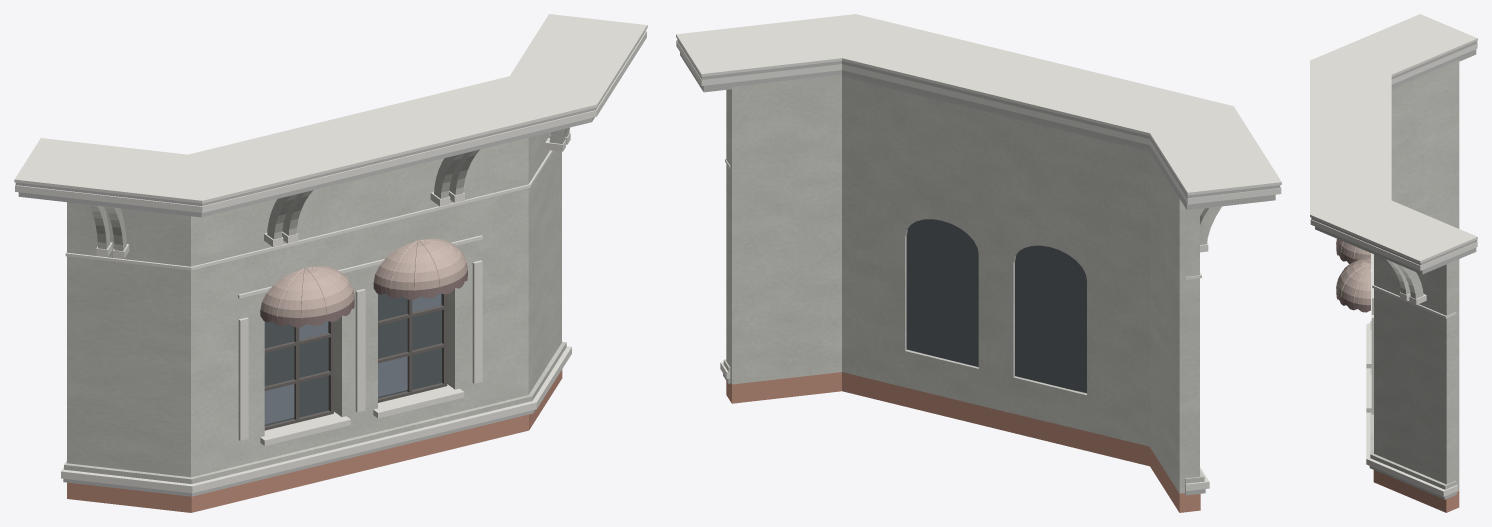
The model's file is navy-ymca-paired-eaves-far.glb.
3 views of the same model, side by side, from view 1: azimuth 30°, elevation 25°; view 2: azimuth 150°, elevation 25°; view 3: azimuth 270°, elevation 25° (orthographic). The views are drawn at different scales.
Parts seen in each view (by area): view 1: 海青大楼顶层双窗与成对弧形檐托; view 2: 海青大楼顶层双窗与成对弧形檐托; view 3: 海青大楼顶层双窗与成对弧形檐托.
Part boxes in pixels (x1=…): 海青大楼顶层双窗与成对弧形檐托: x1=14, y1=14, x2=647, y2=512; 海青大楼顶层双窗与成对弧形檐托: x1=676, y1=14, x2=1281, y2=512; 海青大楼顶层双窗与成对弧形檐托: x1=1310, y1=14, x2=1477, y2=512.
Bounding box in the file's own units: 6.6 × 3.47 × 1.89.
Materials: 10 (1 with a texture image).
